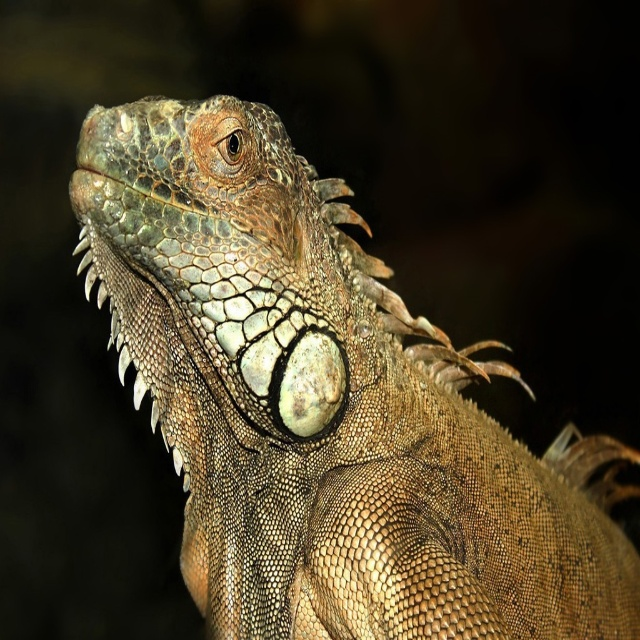Lizard: (66, 71, 626, 640)
